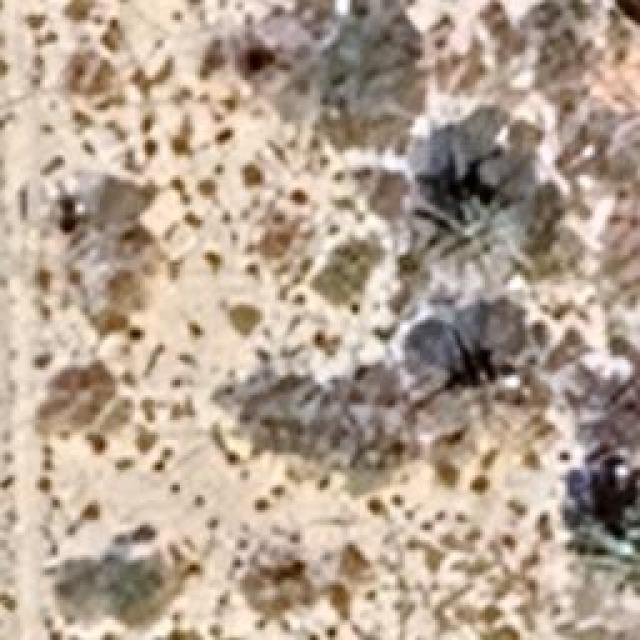PalmTree: (110, 94, 475, 386), (73, 85, 118, 583), (300, 2, 427, 140), (304, 12, 424, 141), (580, 467, 638, 595), (432, 195, 510, 275)
